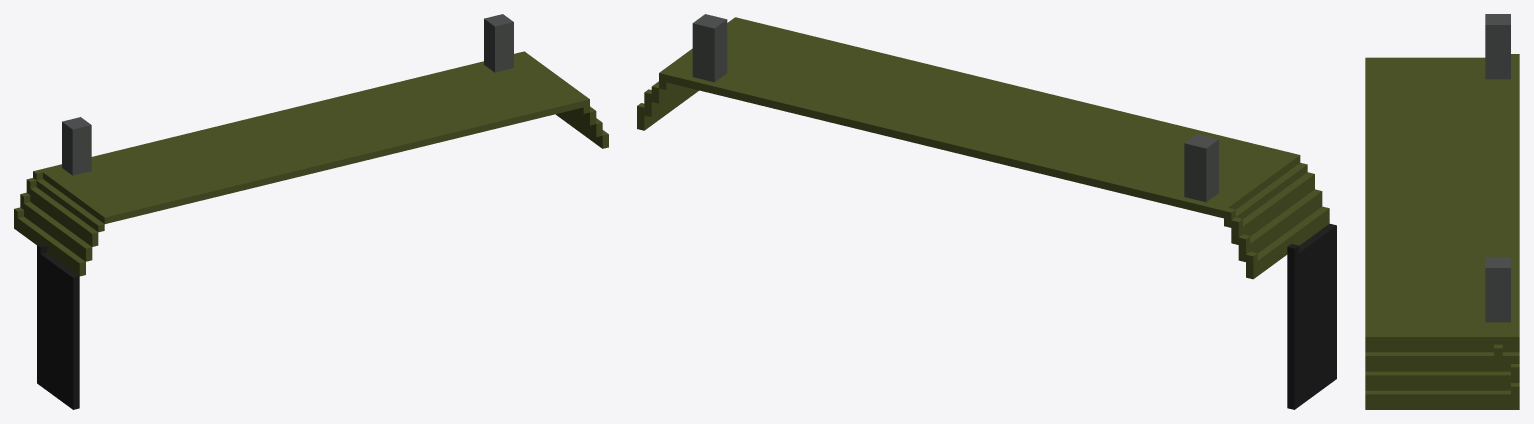
The model's file is military_ambulance_rear_mudguard.glb.
3 renders of one model, left to right at view 1: azimuth 30°, elevation 25°; view 2: azimuth 150°, elevation 25°; view 3: azimuth 270°, elevation 25°, orthographic. The views are drawn at different scales.
Parts seen in each view (by area): view 1: body:compound; view 2: body:compound; view 3: body:compound.
Part boxes in pixels (<box>): body:compound: <box>14,14,608,409</box>; body:compound: <box>637,14,1336,409</box>; body:compound: <box>1365,14,1519,409</box>.
Size of the model in its own units: 2.66 by 1.09 by 0.5625.
